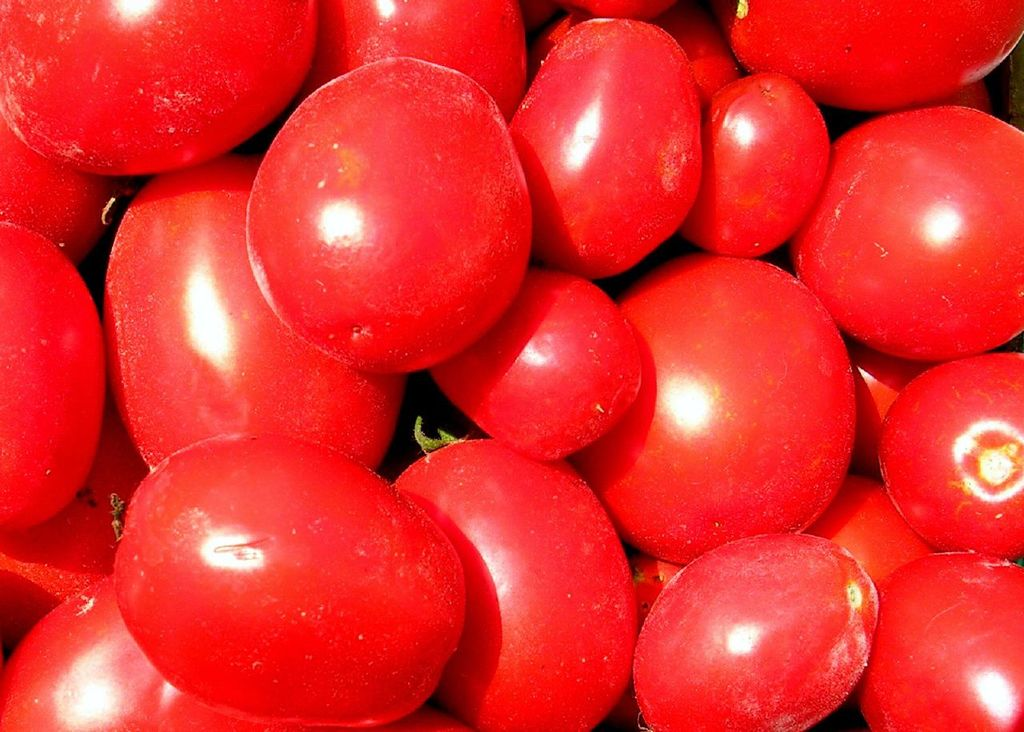Tomato: (0, 0, 1023, 731), (99, 432, 470, 726)
